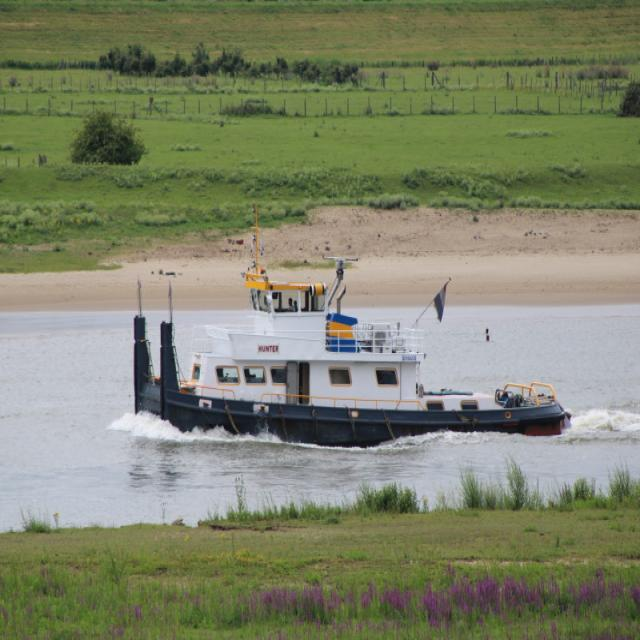tugboat: (132, 263, 578, 461)
